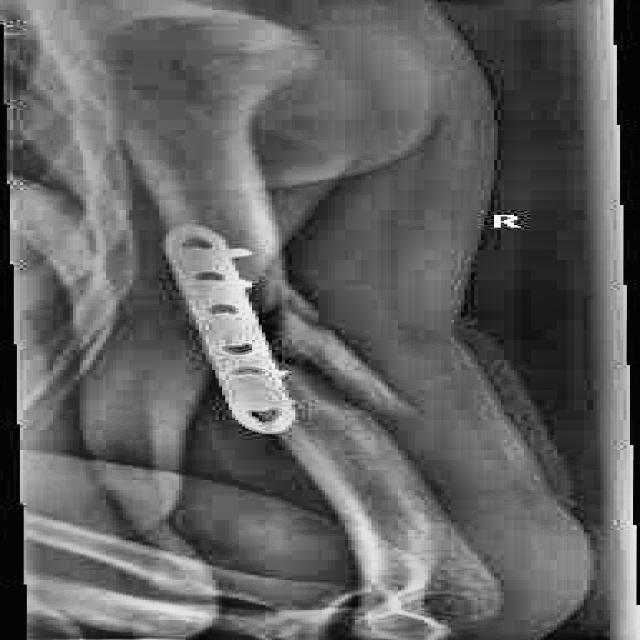humerus: (239, 293, 480, 439)
